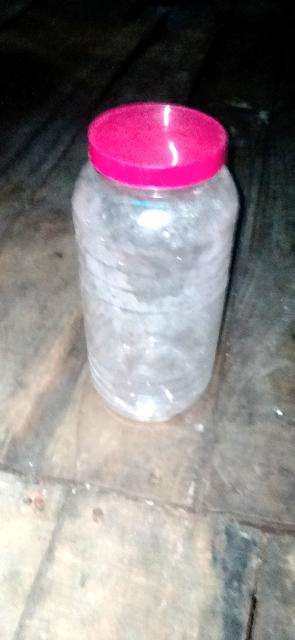hardplastic: (44, 79, 272, 459)
